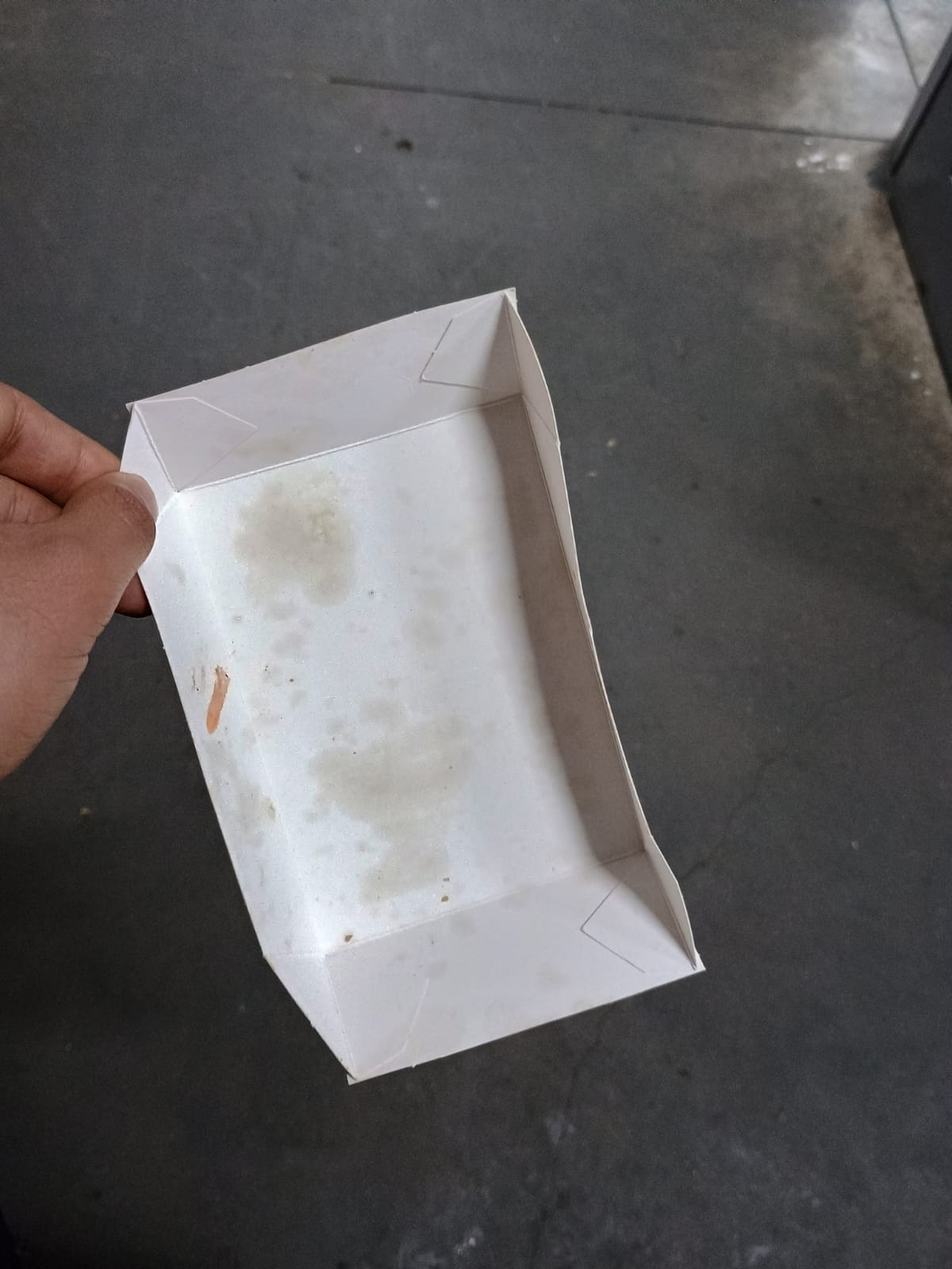Carton: (112, 287, 708, 1081)
